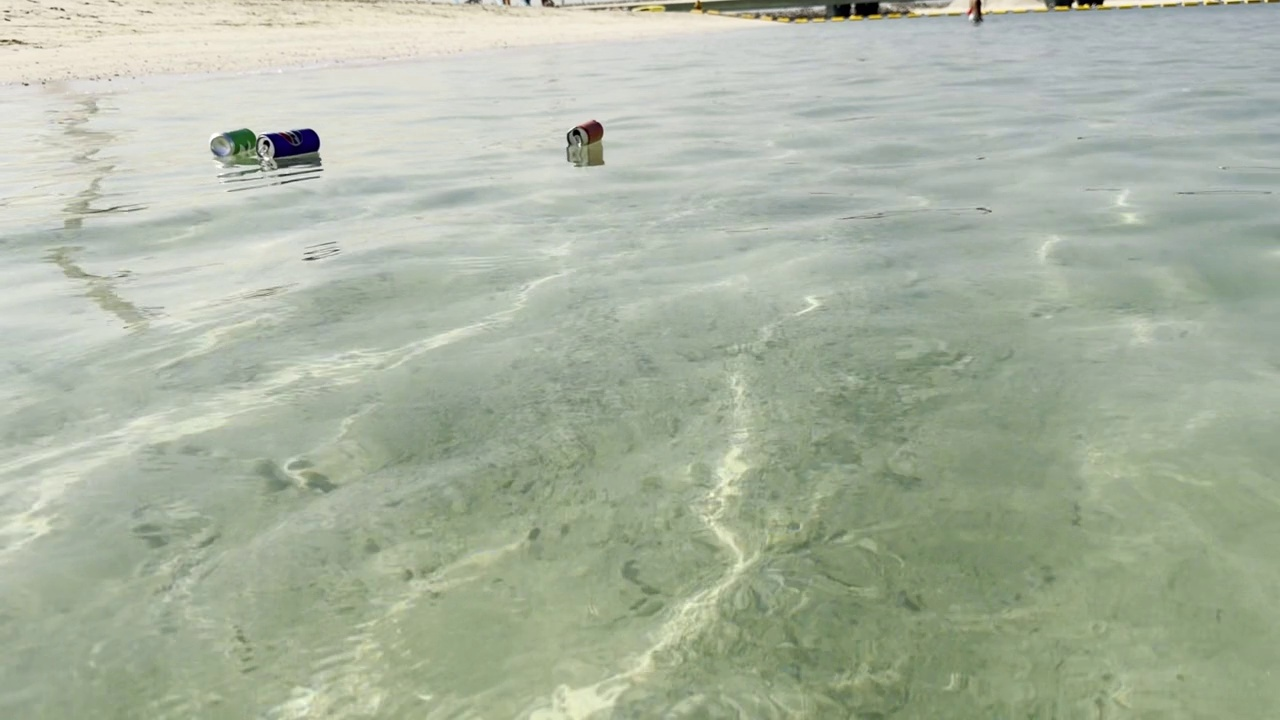debris: (250, 126, 323, 165), (201, 121, 259, 164), (560, 118, 609, 154)
